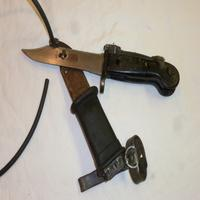knife: (46, 36, 141, 181), (21, 40, 187, 96)
